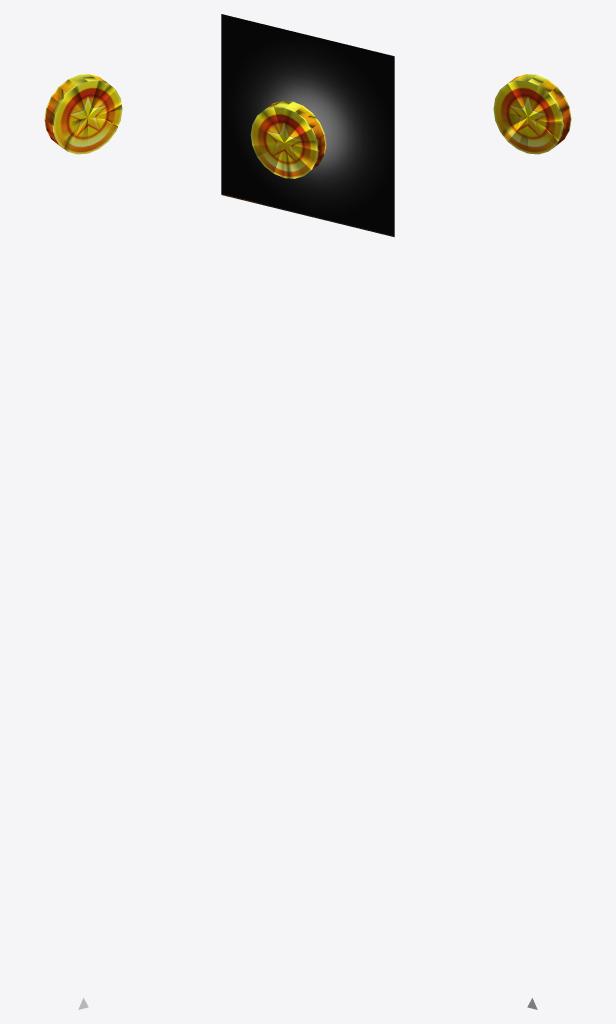
The model's file is 1.100_SanFrancisco_coin.glb.
The picture shows the model from 3 angles, left to right: view 1: azimuth 30°, elevation 25°; view 2: azimuth 150°, elevation 25°; view 3: azimuth 330°, elevation 25°; orthographic projection. The views are drawn at different scales.
Visible parts, largest first — view 1: coin; view 2: Glow, coin; view 3: coin.
Boxes of the visible parts, <box> form: coin: <box>44,74,122,1009</box>; Glow: <box>221,14,394,237</box>; coin: <box>250,100,326,178</box>; coin: <box>493,74,571,1009</box>.
Bounding box in the file's own units: 16.77 × 88.89 × 3.99.
3 materials, 2 textured.
